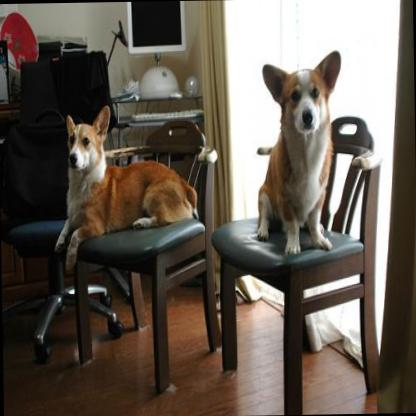Pembroke: (50, 100, 199, 270), (254, 49, 343, 253)
